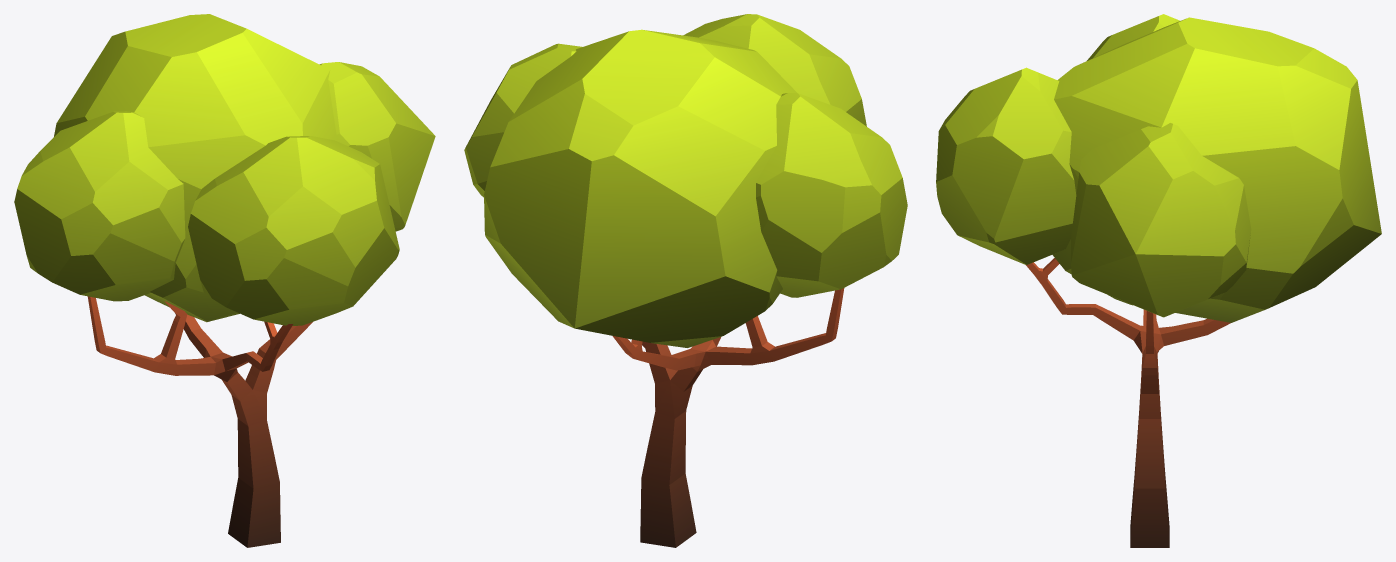
The picture shows the model from 3 angles, left to right: view 1: azimuth 30°, elevation 25°; view 2: azimuth 150°, elevation 25°; view 3: azimuth 270°, elevation 25°; orthographic projection. The views are drawn at different scales.
Parts seen in each view (by area): view 1: 2.001; view 2: 2.001; view 3: 2.001.
Part boxes in pixels (x1,y1,x2,y2): 2.001: (14,14,435,547); 2.001: (464,14,907,547); 2.001: (936,14,1381,547).
Bounding box in the file's own units: 4.23 × 5.05 × 4.09.
1 material, 1 textured.
